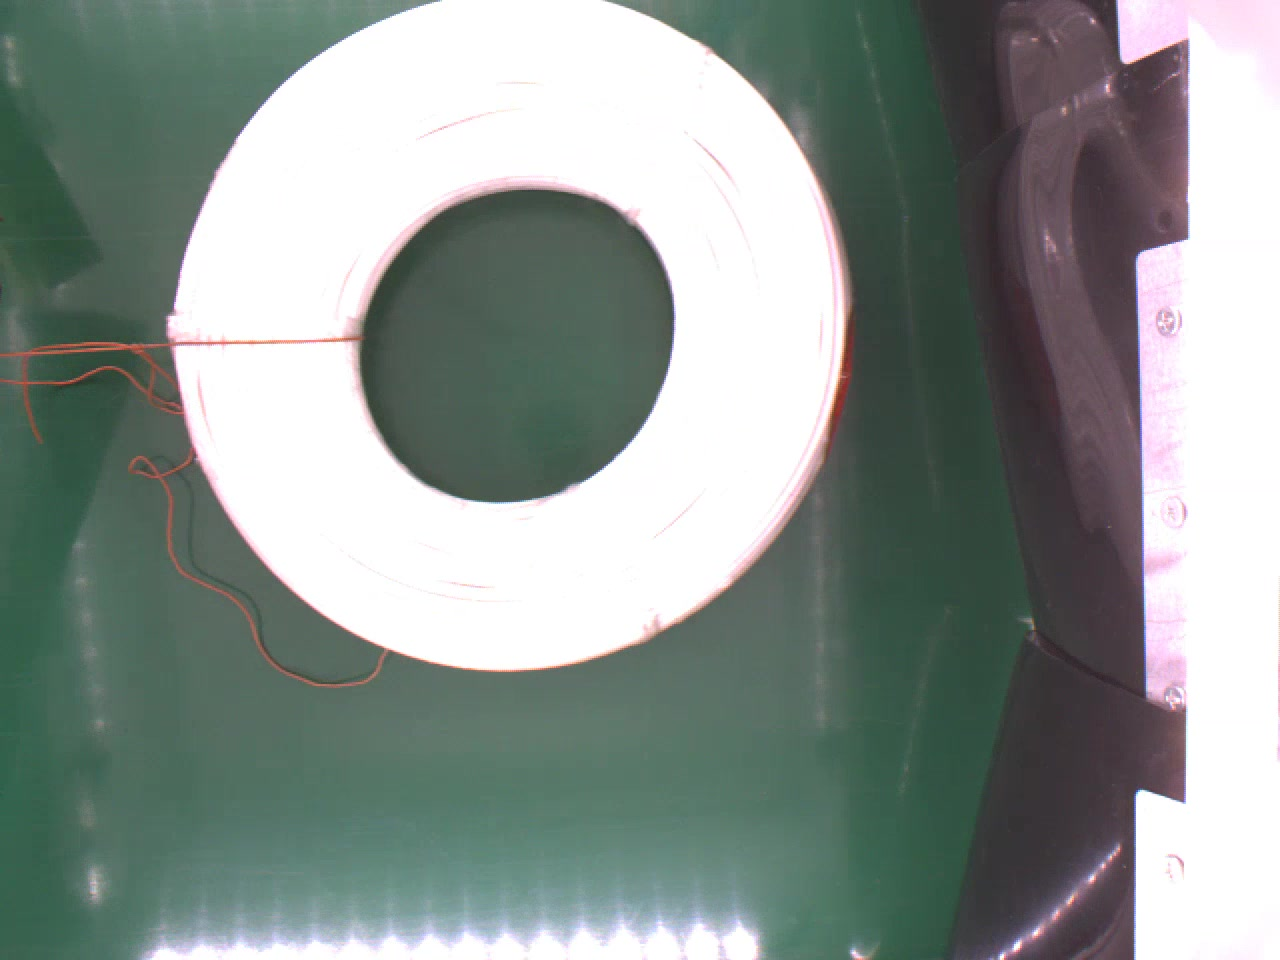white: (162, 0, 854, 678)
